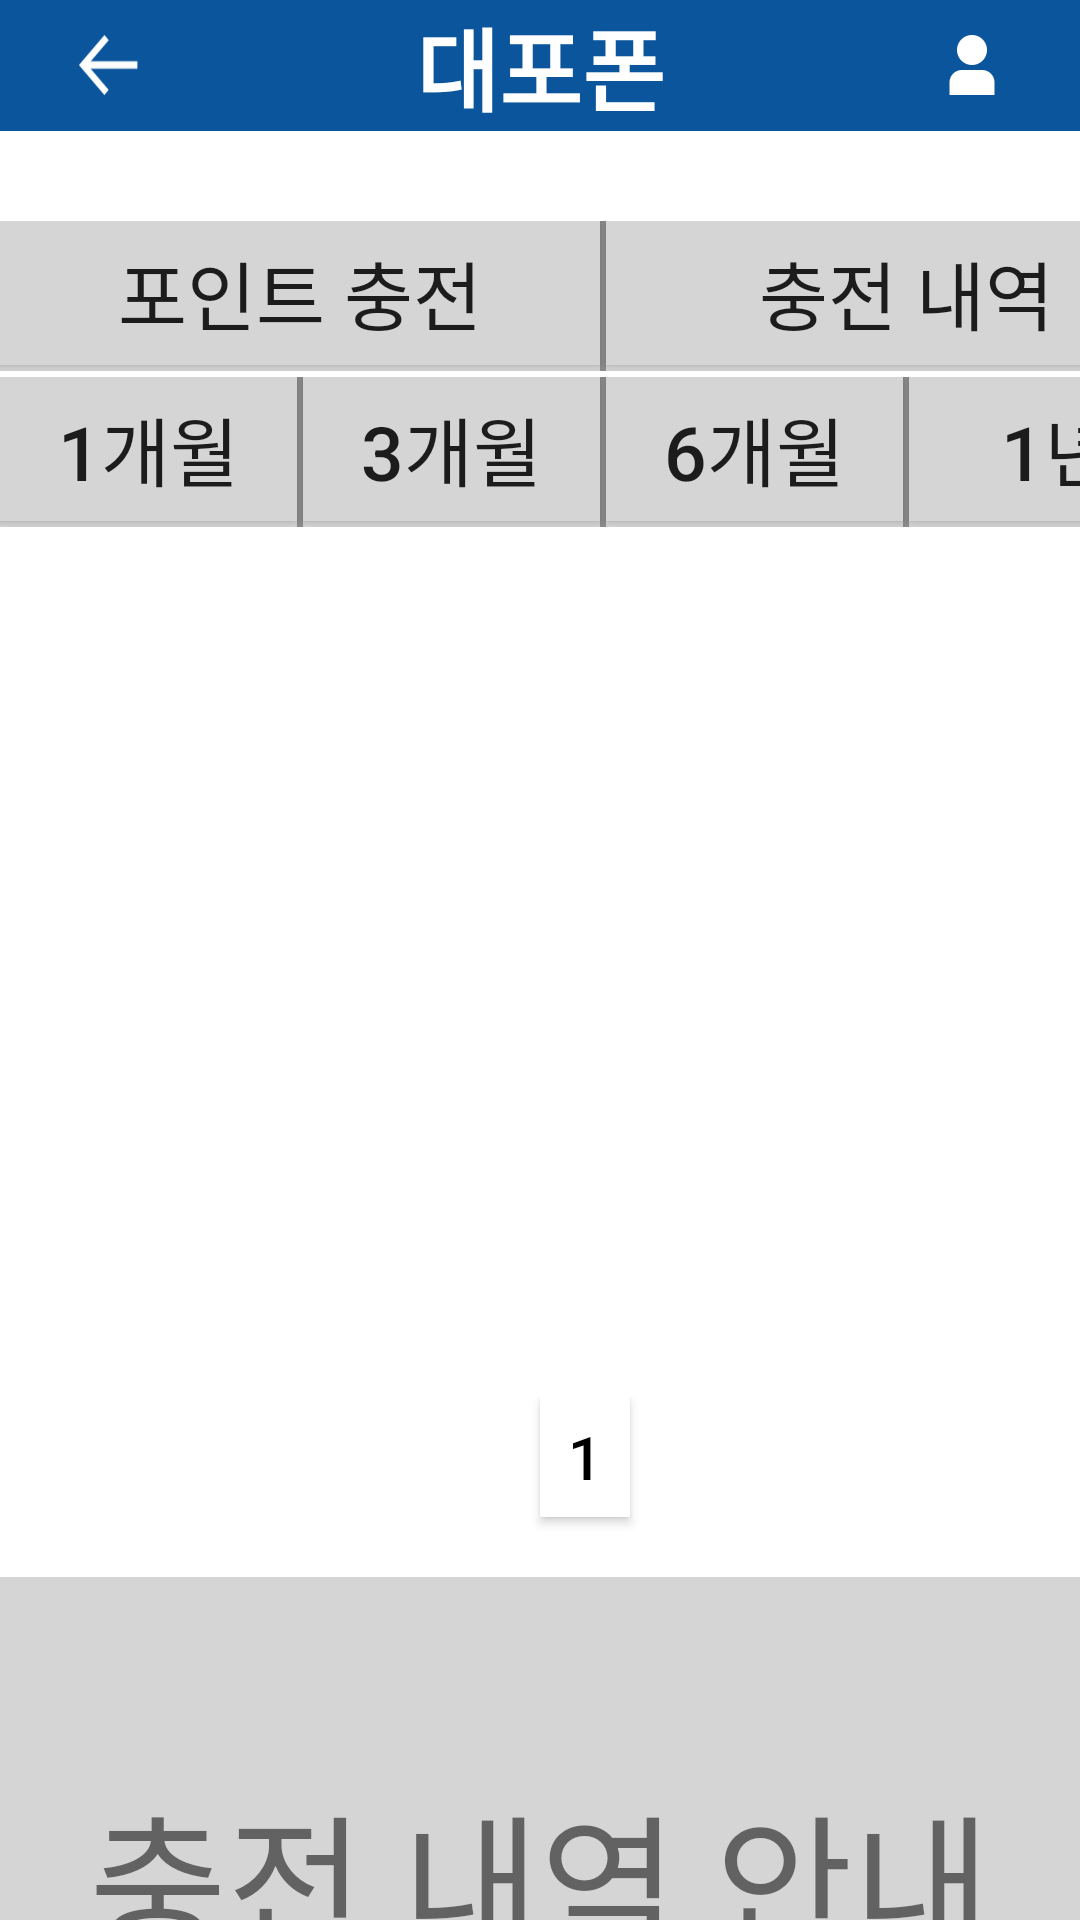

Where to tap for icons on this 1080x1920 app screen, as (x=x, y=y):
back arrow resize: (x=108, y=65)
user resize: (x=972, y=65)
